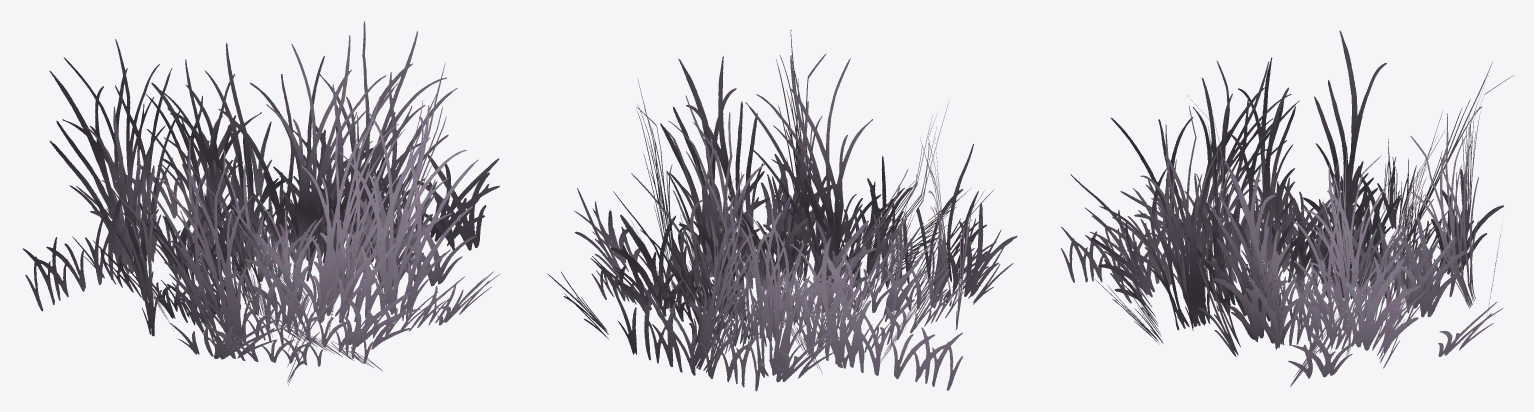
The picture shows the model from 3 angles, left to right: view 1: azimuth 30°, elevation 25°; view 2: azimuth 150°, elevation 25°; view 3: azimuth 270°, elevation 25°; orthographic projection. The views are drawn at different scales.
Parts seen in each view (by area): view 1: SM_FH_GrassLong_03_LOD0; view 2: SM_FH_GrassLong_03_LOD0; view 3: SM_FH_GrassLong_03_LOD0.
Boxes of the visible parts, x1,y1,x2,y2 form: SM_FH_GrassLong_03_LOD0: [23, 21, 500, 385]; SM_FH_GrassLong_03_LOD0: [547, 30, 1017, 391]; SM_FH_GrassLong_03_LOD0: [1061, 30, 1513, 386].
Bounding box in the file's own units: 1.17 × 0.6121 × 1.08.
Materials: 1 (1 with a texture image).
